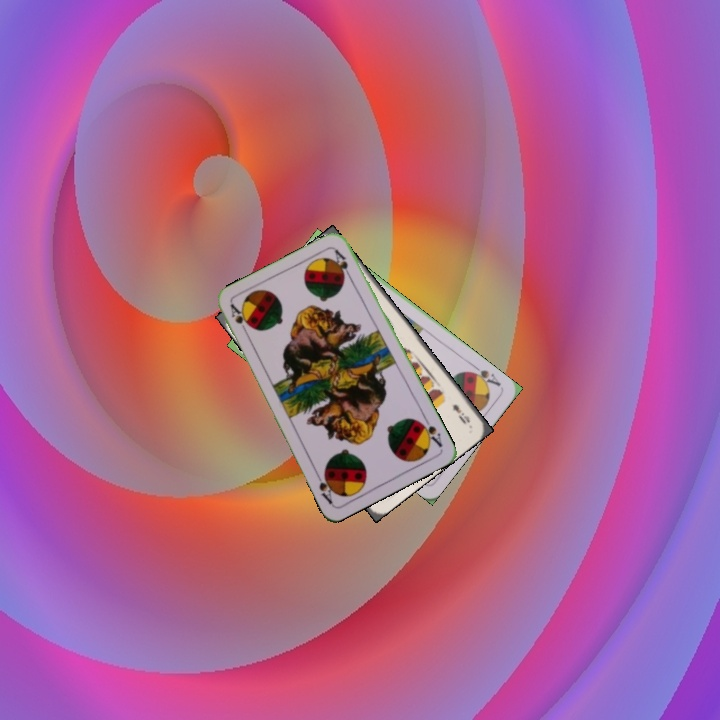E9: (448, 400, 473, 427)
SA: (414, 413, 445, 450), (465, 361, 503, 390), (226, 300, 251, 338)
